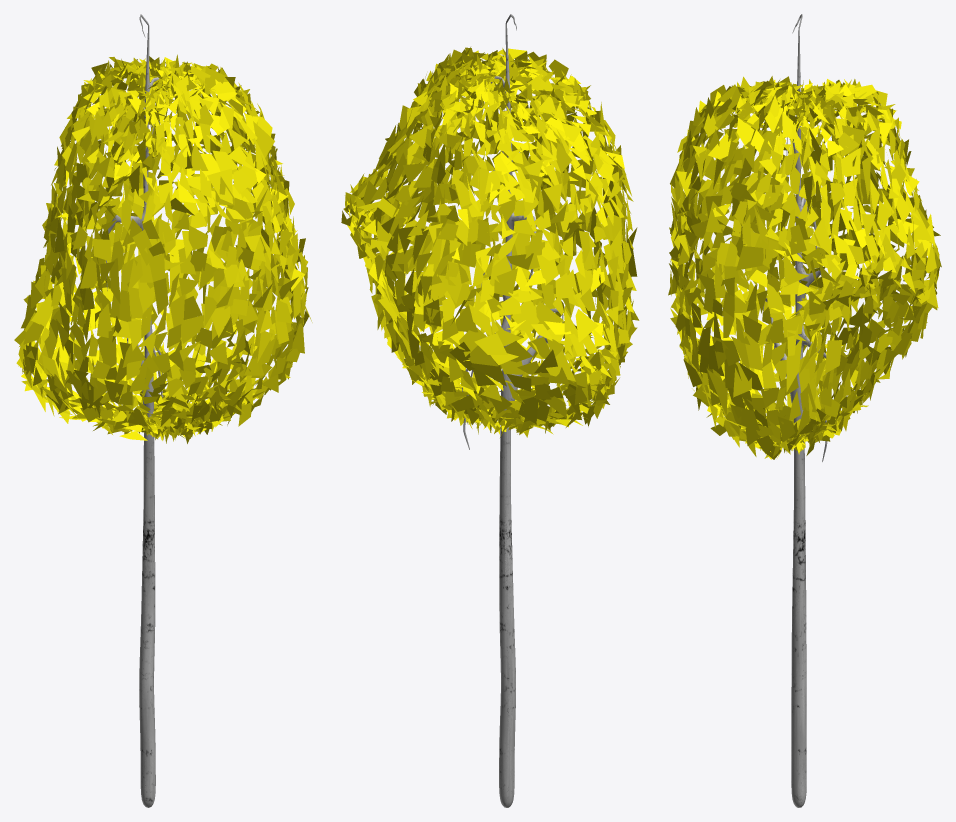
The model's file is Leaves55.001.fbx.
3 renders of one model, left to right at view 1: azimuth 30°, elevation 25°; view 2: azimuth 150°, elevation 25°; view 3: azimuth 270°, elevation 25°, orthographic.
Parts seen in each view (by area): view 1: Leaves55.001; view 2: Leaves55.001; view 3: Leaves55.001.
Part boxes in pixels (x1,y1,x2,y2): Leaves55.001: (14,14,312,807); Leaves55.001: (341,14,639,807); Leaves55.001: (668,14,941,807).
Bounding box in the file's own units: 903 × 2612 × 820.
Materials: 2 (1 with a texture image).
